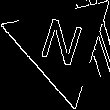N_S: (36, 15, 88, 75)
